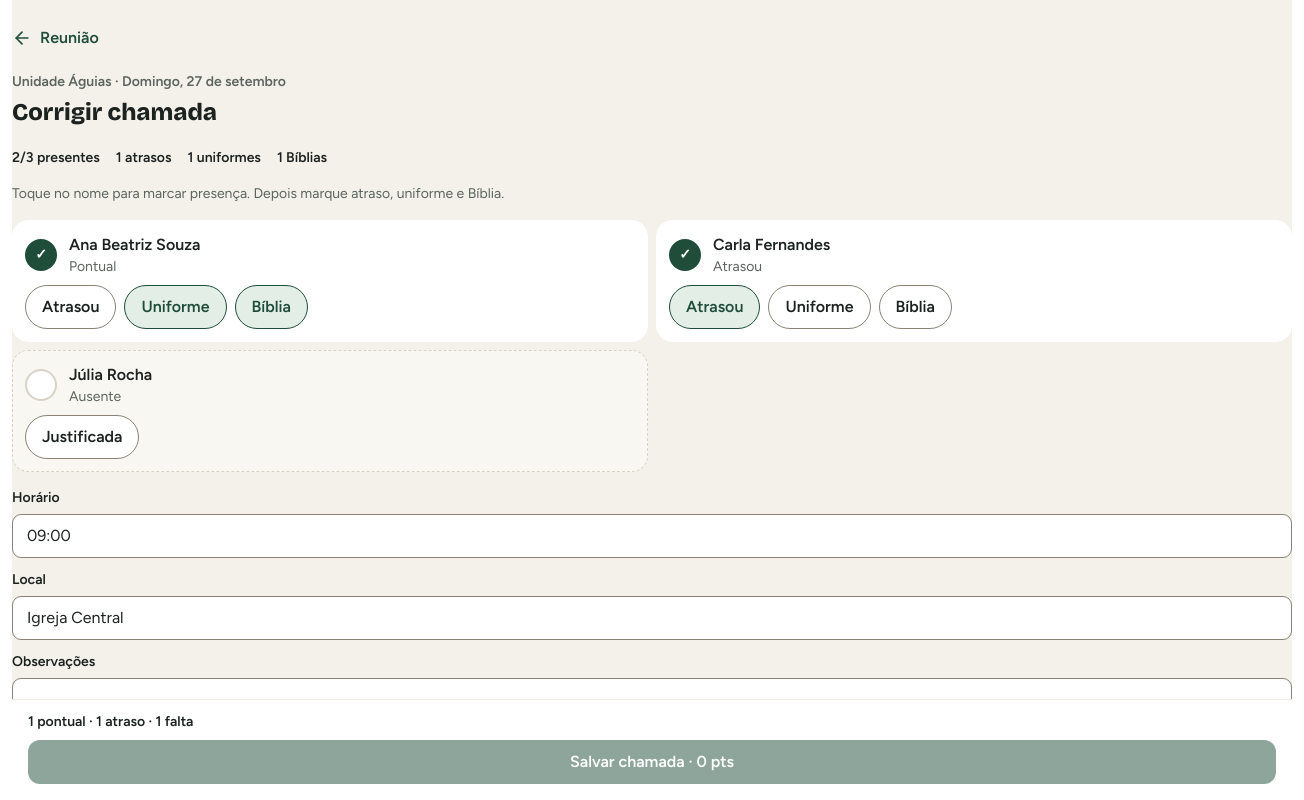
Test: corrigir chamada (Adm) › no celular, o rodapé preso ao pé traz o resumo e o Salvar; o resumo acompanha a presença
Check: the text "1 pontual · 1 atraso · 1 falta" is shown, box [28, 713, 193, 730]
Check: the button "Salvar chamada · 0 pts" is shown, box [28, 740, 1276, 784]
Click the button "✓ Júlia Rocha Ausente": [41, 385] box [25, 363, 635, 407]
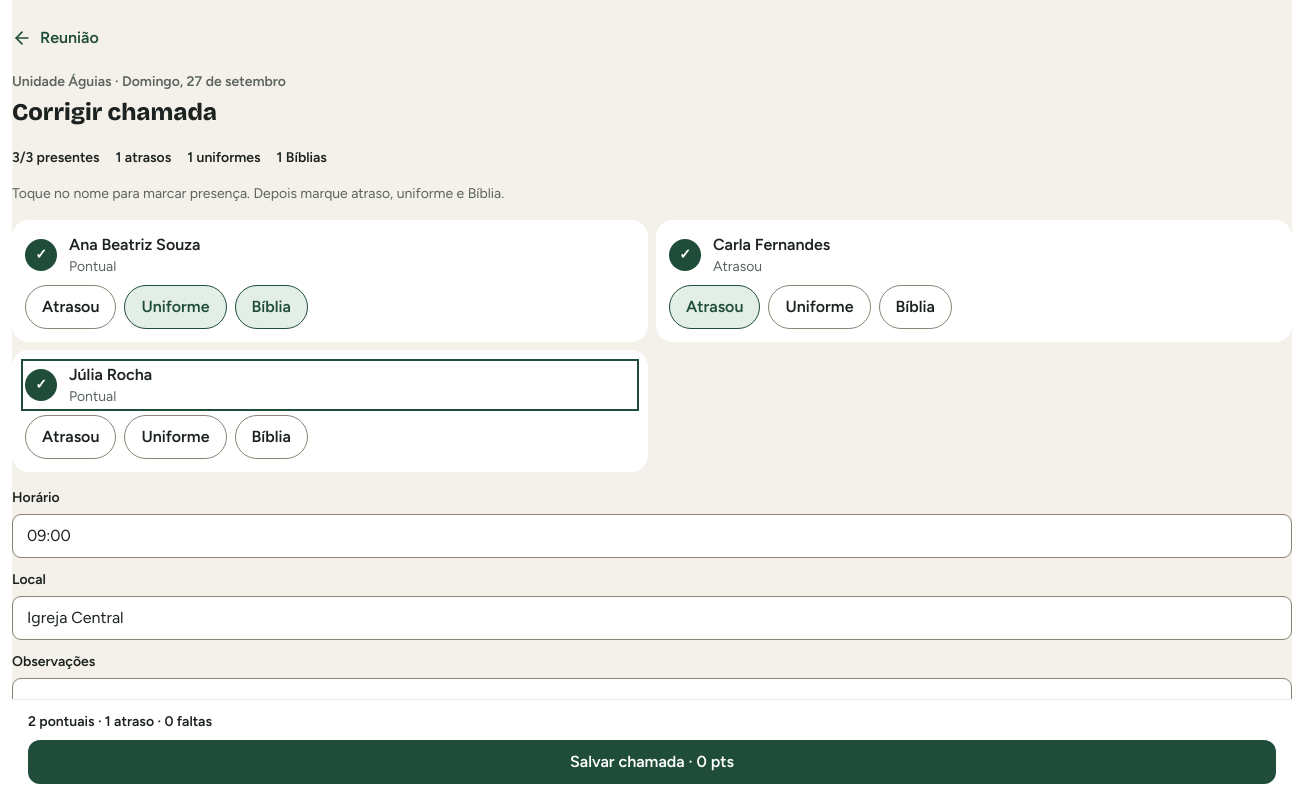
Check: the text "2 pontuais · 1 atraso · 0 faltas" is shown, box [28, 713, 212, 730]
